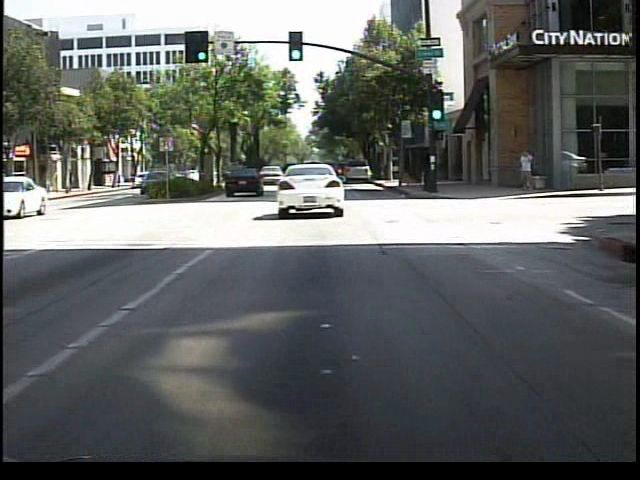person: (515, 147, 538, 196)
